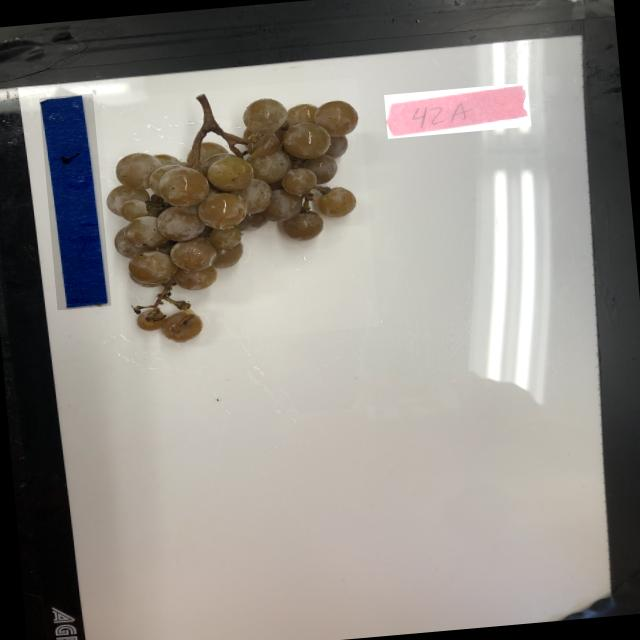grape_cluster: (100, 76, 379, 348)
index: (384, 82, 530, 138)
measure_label: (39, 93, 111, 310)
